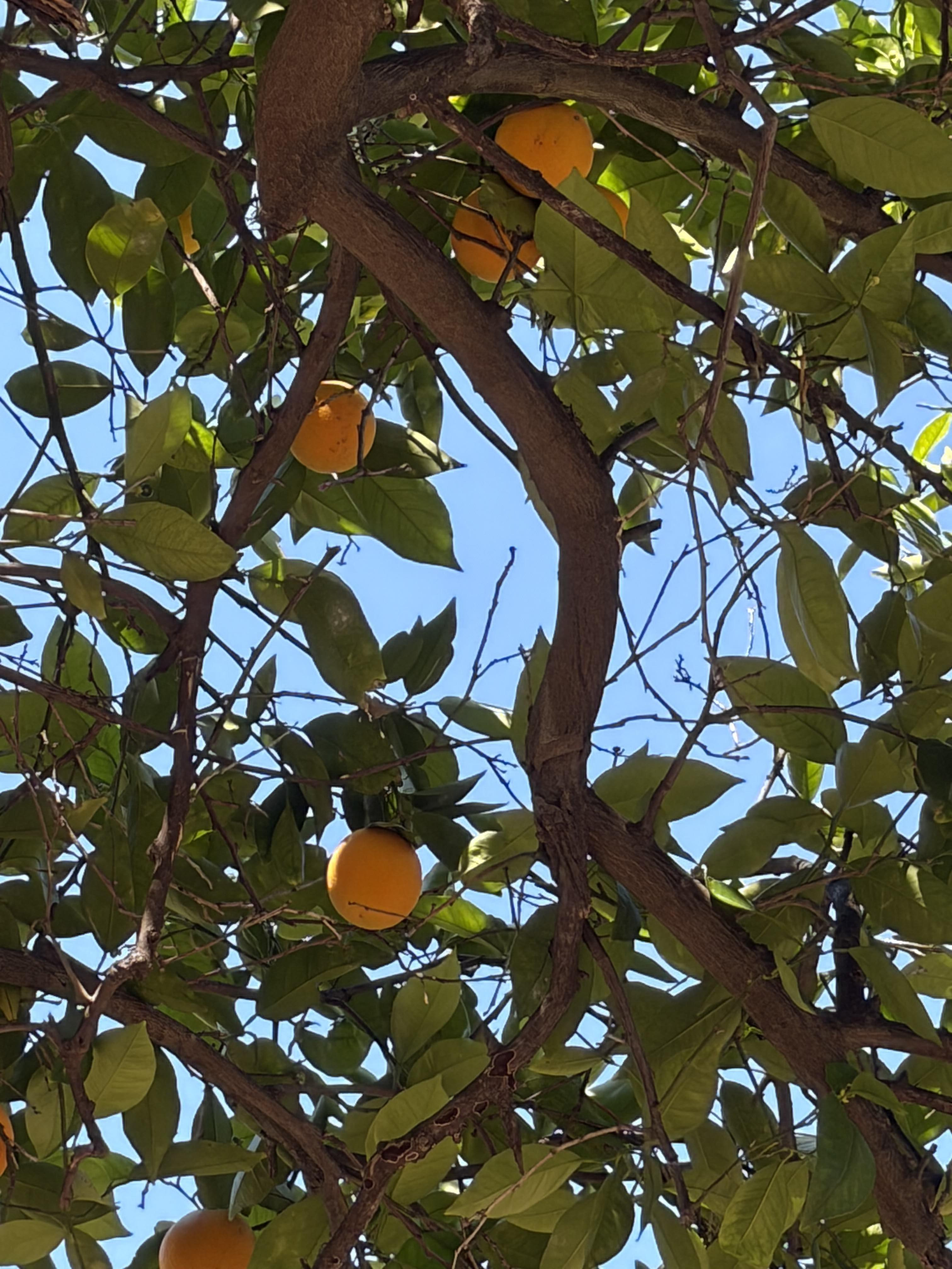orange: (326, 827, 422, 930), (493, 104, 593, 199), (451, 186, 543, 284), (291, 379, 377, 474), (159, 1209, 255, 1269), (595, 186, 629, 236), (0, 1103, 15, 1177), (178, 204, 199, 253)
